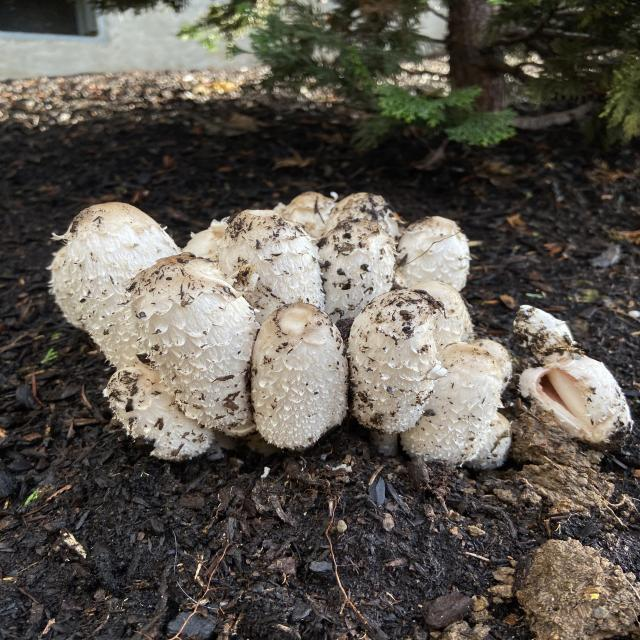Coprinus comatus: (267, 343, 624, 443), (342, 288, 580, 374), (403, 6, 584, 91), (387, 155, 577, 220), (455, 110, 619, 179), (281, 242, 419, 313), (254, 177, 425, 233), (287, 130, 383, 179)
